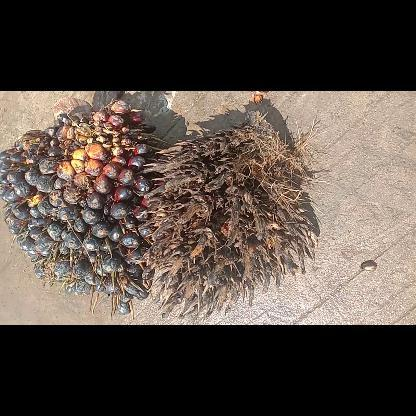Janjang kosong: (143, 111, 317, 319)
TBS mentah: (0, 98, 170, 318)
